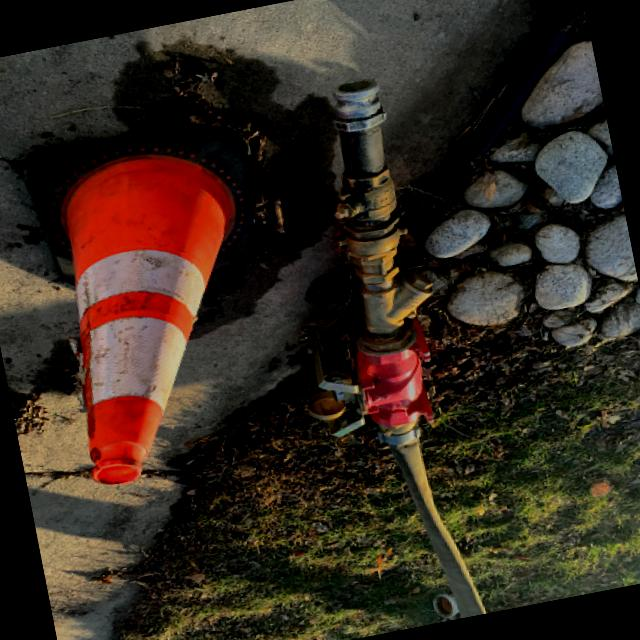cone: (0, 86, 382, 617)
